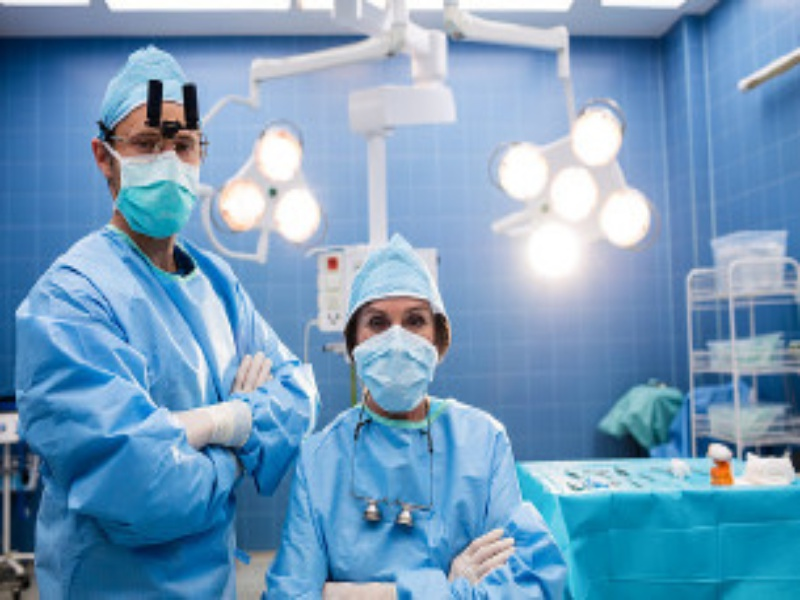mask: (105, 45, 215, 245), (336, 247, 464, 418)
